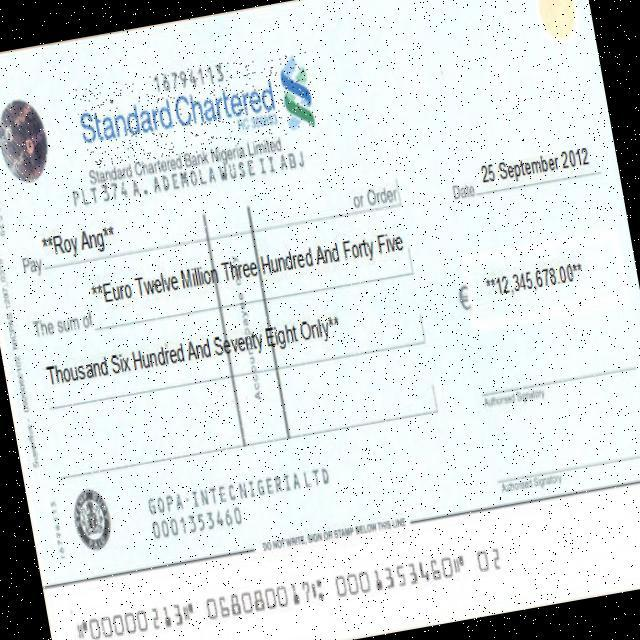Standard Chartered: (72, 48, 319, 172)
